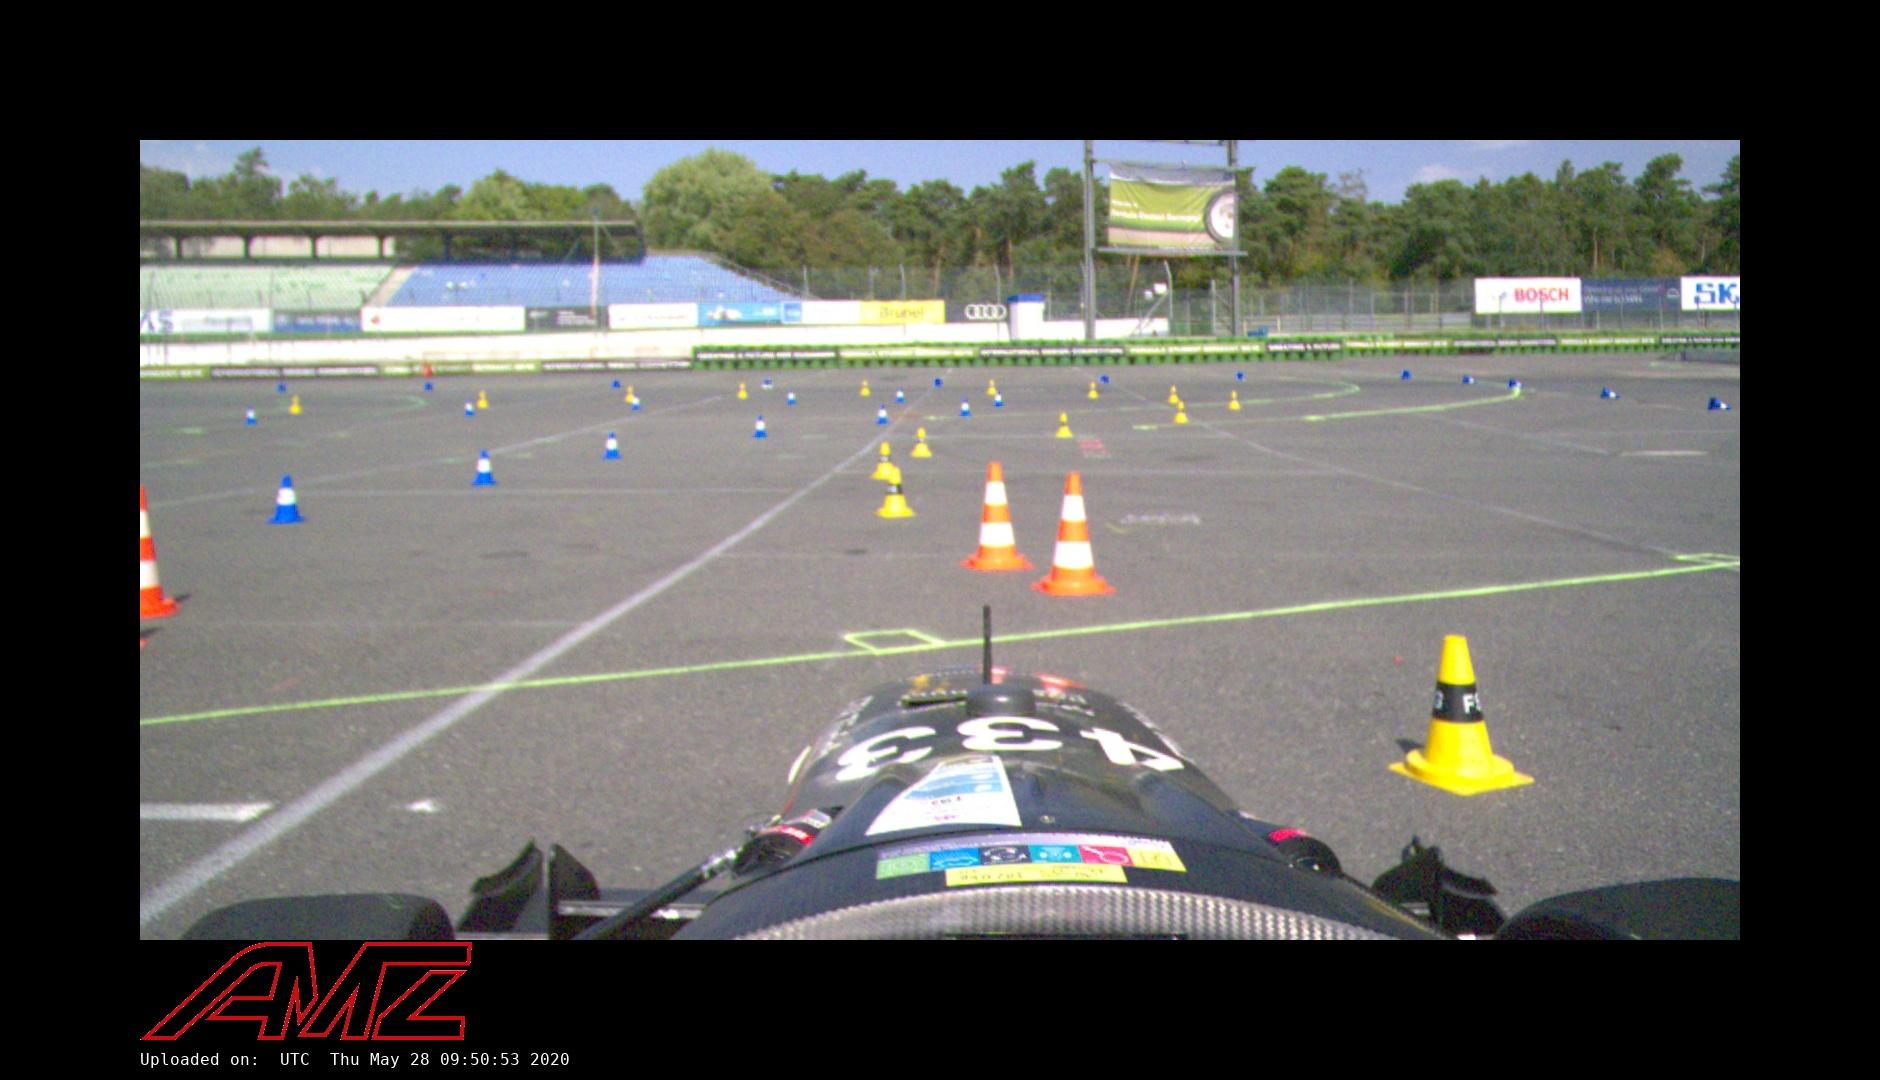blue_cone: (266, 473, 306, 524), (469, 448, 498, 487), (600, 431, 622, 460), (751, 413, 770, 438), (874, 403, 891, 426), (241, 406, 260, 426), (1706, 397, 1732, 411), (1599, 388, 1622, 400), (462, 398, 476, 419), (958, 397, 972, 417), (894, 386, 906, 406), (993, 389, 1005, 407), (631, 391, 642, 411), (1507, 379, 1525, 389), (786, 389, 797, 406), (1460, 375, 1477, 384)
large_orange_cone: (1030, 472, 1116, 597), (955, 461, 1036, 572), (139, 483, 179, 621)
yellow_cone: (1389, 636, 1531, 794), (873, 466, 918, 519), (872, 442, 897, 481), (910, 428, 932, 457), (1054, 412, 1073, 438), (1174, 400, 1189, 422), (288, 395, 302, 415), (622, 386, 637, 406), (1166, 385, 1180, 404), (1227, 389, 1240, 410), (475, 390, 489, 408), (859, 380, 872, 397), (986, 380, 998, 395), (1087, 382, 1099, 398), (737, 382, 748, 398)
